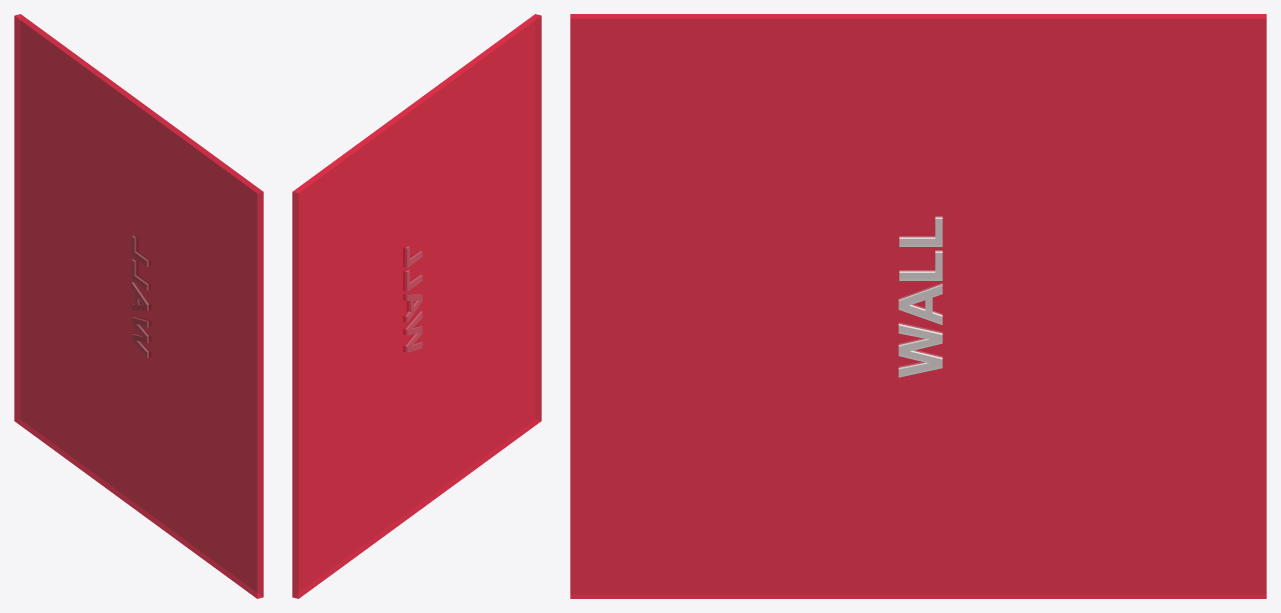
Rendered from wallwithtext.fbx.
3 renders of one model, left to right at view 1: azimuth 30°, elevation 25°; view 2: azimuth 150°, elevation 25°; view 3: azimuth 270°, elevation 25°, orthographic. The views are drawn at different scales.
Parts seen in each view (by area): view 1: Layer 01, Layer 09; view 2: Layer 01, Layer 09; view 3: Layer 01, Layer 09.
Part boxes in pixels (bbox=[...]): Layer 01: bbox=[14, 14, 263, 598]; Layer 09: bbox=[132, 236, 150, 357]; Layer 01: bbox=[292, 14, 541, 598]; Layer 09: bbox=[403, 246, 422, 352]; Layer 01: bbox=[570, 14, 1266, 598]; Layer 09: bbox=[898, 216, 942, 377].
Size of the model in its own units: 1 by 45 by 48.9.
